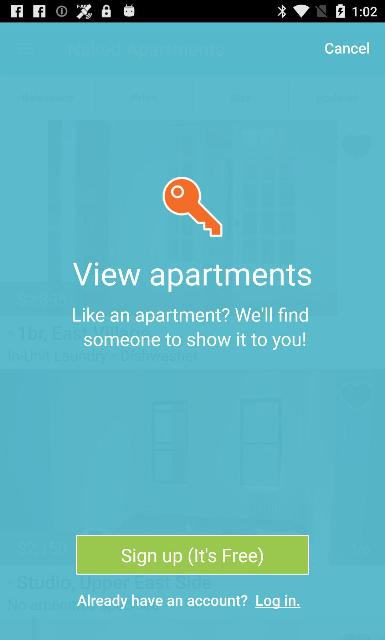Image: (162, 177, 222, 237)
Text: (72, 308, 308, 350), (73, 262, 311, 292), (77, 594, 301, 608), (122, 548, 264, 566), (325, 42, 369, 54)
TextButton: (76, 534, 308, 574)
UpperTaskBar: (0, 0, 384, 22)
